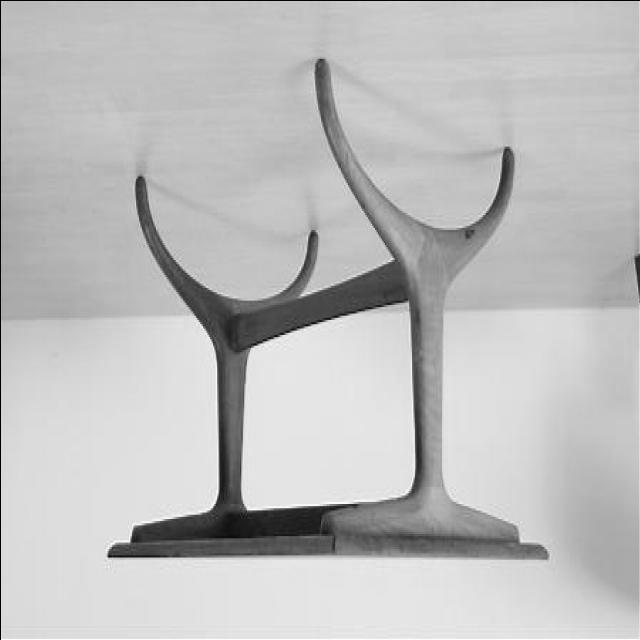table: (105, 60, 549, 560)
